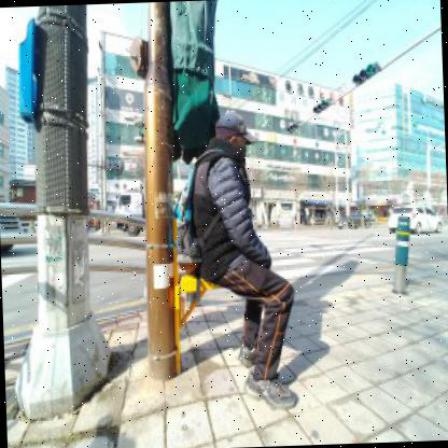silver: (168, 112, 300, 409)
